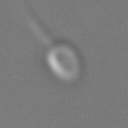normal: (15, 1, 53, 44)
